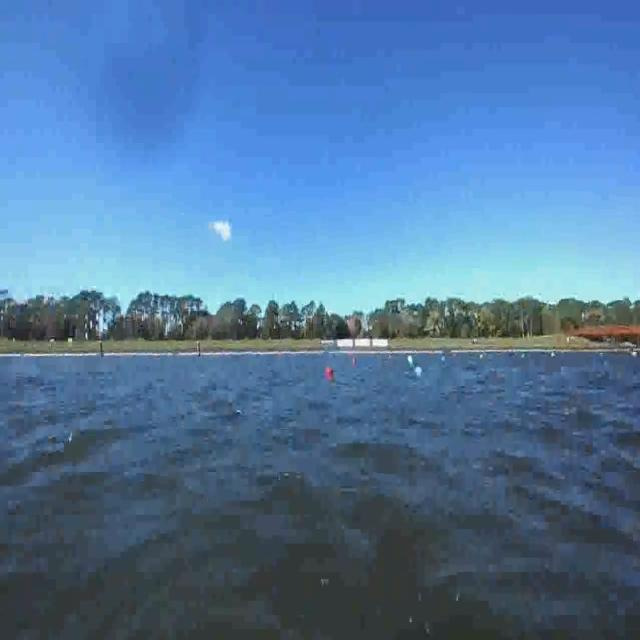green-buoy: (409, 359, 413, 368)
red-buoy: (325, 366, 334, 378), (352, 357, 357, 367)
